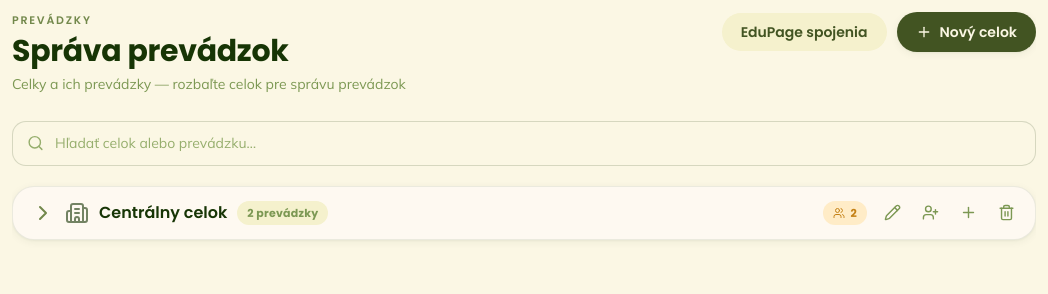
Test: FacilityManager login management › finds a celok despite case, diacritics, punctuation and whitespace differences
The image size is (1048, 294).
Type "  CENTRALNY,  celok  " into the field with placeholder "Hľadať celok alebo prevádzku…". click: coordinates (524, 143)
box: x1=12 y1=120 x2=1036 y2=166
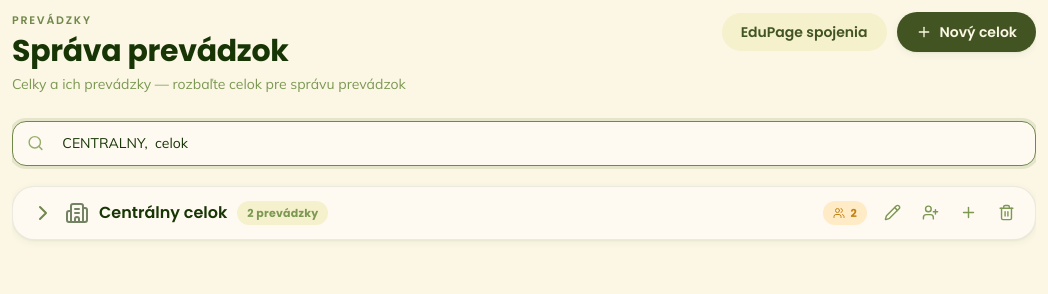
Expected: the text "Centrálny celok" is shown, x1=99 y1=201 x2=227 y2=225
Replace the text in the field with placeholder "Hľadať celok alebo prevádzku…" with "prva prevadzka". click: coordinates (524, 143)
box: x1=12 y1=120 x2=1036 y2=166
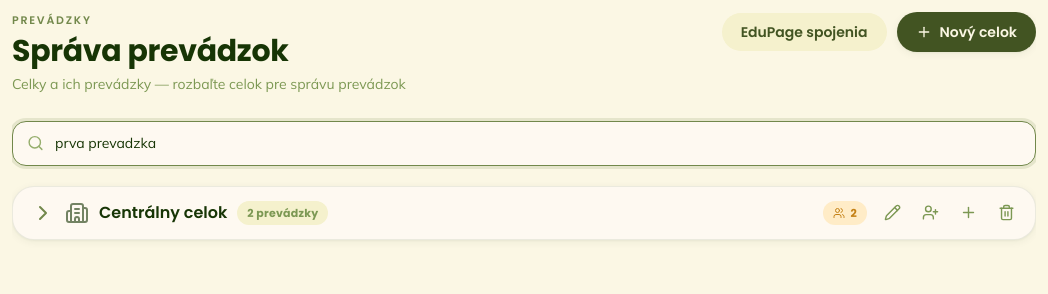
Expected: the text "Centrálny celok" is shown, x1=99 y1=201 x2=227 y2=225
Replace the text in the field with placeholder "Hľadať celok alebo prevádzku…" with "nothing matches this". click: coordinates (524, 143)
box: x1=12 y1=120 x2=1036 y2=166
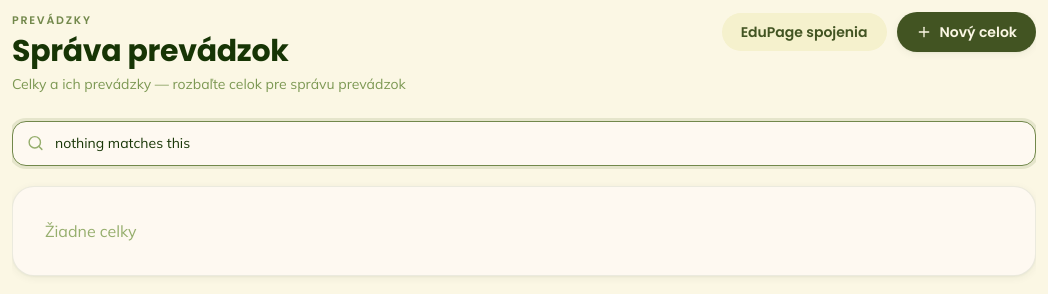
Expected: the button "Centrálny celok" is gone
